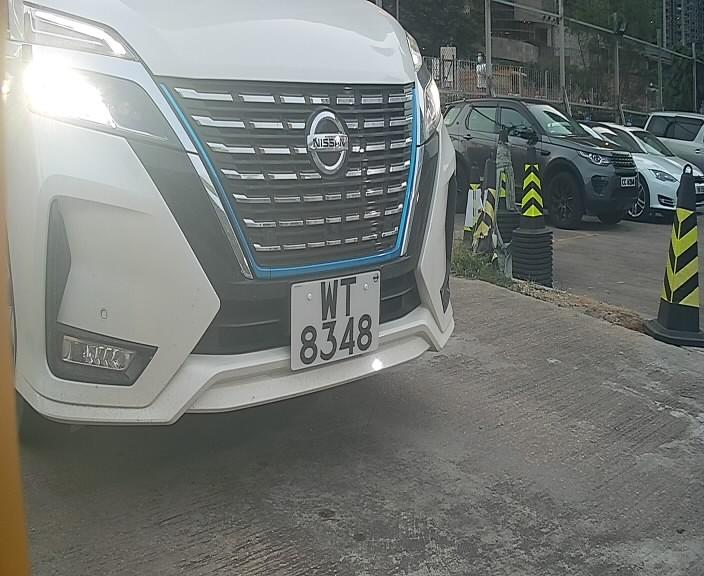privatecar: (29, 19, 463, 443)
